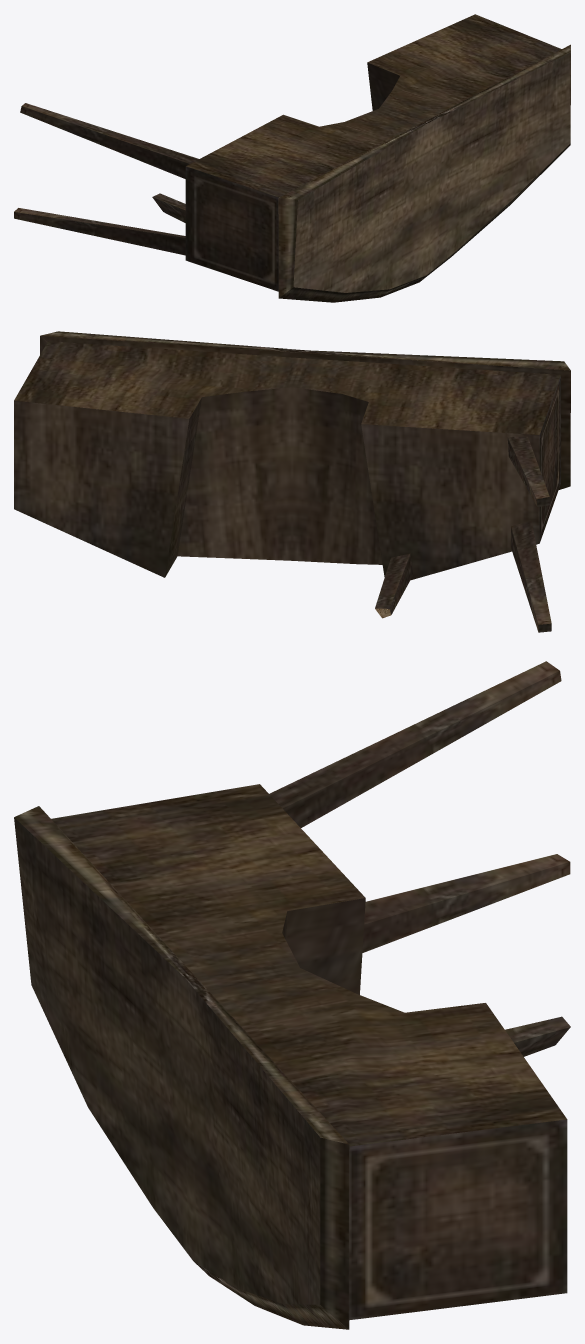
File: furniture_walltable1_d.glb
The picture shows the model from 3 angles, top to bottom: view 1: azimuth 30°, elevation 25°; view 2: azimuth 150°, elevation 25°; view 3: azimuth 270°, elevation 25°; orthographic projection. The views are drawn at different scales.
Bounding box in the file's own units: 63.82 × 22.44 × 33.37.
Materials: 1 (1 with a texture image).
